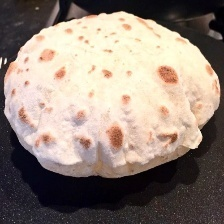roti: (3, 10, 222, 178)
